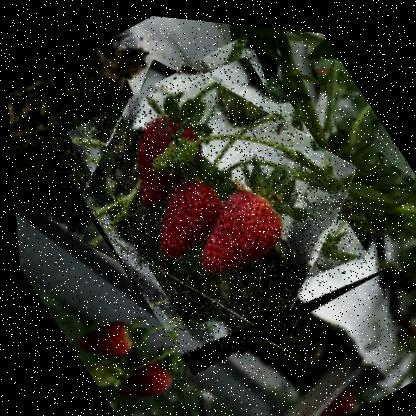strawberry: (30, 8, 400, 388)
